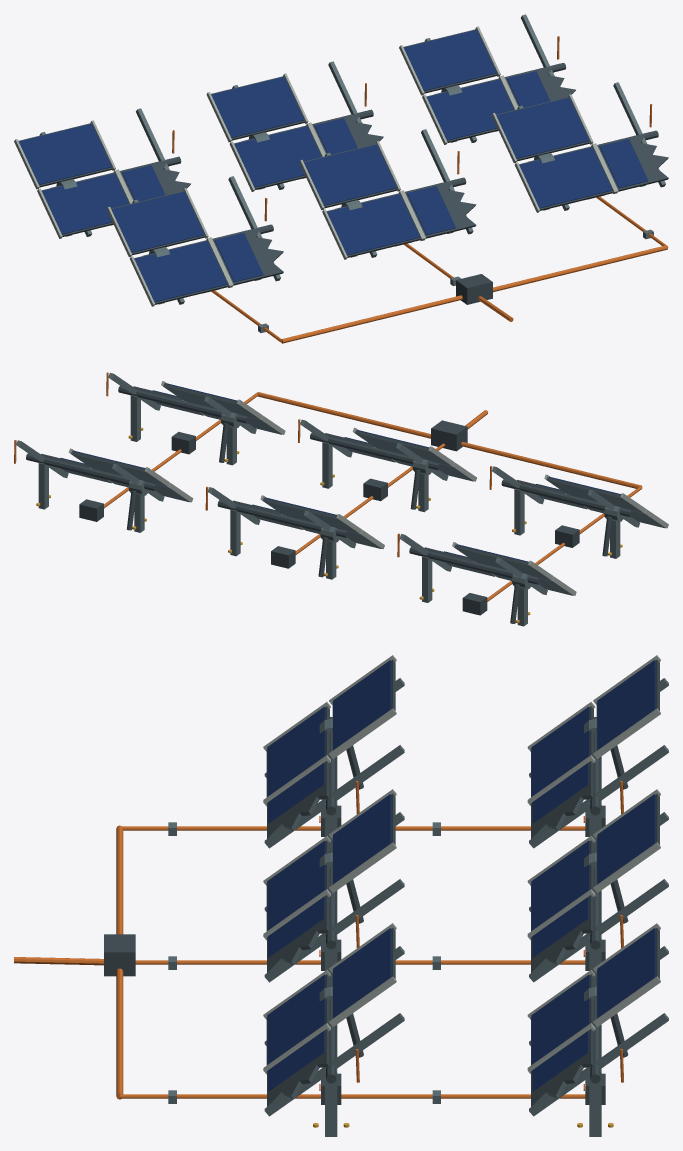
Rendered from solar_array_d2.glb.
3 renders of one model, top to bottom at view 1: azimuth 30°, elevation 25°; view 2: azimuth 150°, elevation 25°; view 3: azimuth 270°, elevation 25°, orthographic. The views are drawn at different scales.
Visible parts, largest first — view 1: SOLAR_GAME_MESH_002, SOLAR_GAME_MESH_003, SOLAR_GAME_MESH_001, SOLAR_GAME_MESH_006, SOLAR_GAME_MESH_004, SOLAR_GAME_MESH_005, SOLAR_GAME_MESH; view 2: SOLAR_GAME_MESH, SOLAR_GAME_MESH_004, SOLAR_GAME_MESH_003, SOLAR_GAME_MESH_001, SOLAR_GAME_MESH_006, SOLAR_GAME_MESH_002, SOLAR_GAME_MESH_005; view 3: SOLAR_GAME_MESH, SOLAR_GAME_MESH_003, SOLAR_GAME_MESH_002, SOLAR_GAME_MESH_001, SOLAR_GAME_MESH_006, SOLAR_GAME_MESH_004, SOLAR_GAME_MESH_005.
Boxes of the visible parts, box(x1,y1,x2,y2) form: SOLAR_GAME_MESH_002: box(299, 129, 476, 259); SOLAR_GAME_MESH_003: box(491, 82, 668, 212); SOLAR_GAME_MESH_001: box(106, 176, 283, 306); SOLAR_GAME_MESH_006: box(399, 14, 575, 144); SOLAR_GAME_MESH_004: box(14, 108, 190, 238); SOLAR_GAME_MESH_005: box(206, 61, 383, 191); SOLAR_GAME_MESH: box(50, 63, 668, 343); SOLAR_GAME_MESH: box(26, 386, 642, 626); SOLAR_GAME_MESH_004: box(397, 533, 576, 595); SOLAR_GAME_MESH_003: box(106, 372, 285, 434); SOLAR_GAME_MESH_001: box(489, 466, 668, 528); SOLAR_GAME_MESH_006: box(14, 440, 193, 502); SOLAR_GAME_MESH_002: box(298, 419, 476, 481); SOLAR_GAME_MESH_005: box(205, 486, 384, 549); SOLAR_GAME_MESH: box(14, 717, 628, 1136); SOLAR_GAME_MESH_003: box(263, 923, 404, 1116); SOLAR_GAME_MESH_002: box(263, 789, 404, 982); SOLAR_GAME_MESH_001: box(263, 655, 404, 848); SOLAR_GAME_MESH_006: box(527, 923, 668, 1116); SOLAR_GAME_MESH_004: box(527, 655, 668, 848); SOLAR_GAME_MESH_005: box(527, 789, 668, 982).
Size of the model in its own units: 16.57 by 2.58 by 12.39.
